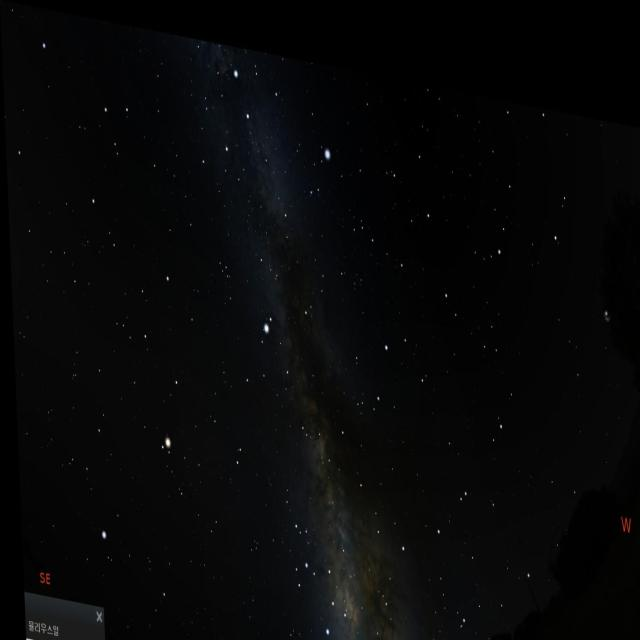aquila: (237, 308, 321, 439)
cygnus: (214, 39, 296, 236)
lyra: (305, 118, 336, 205)
sagittarius: (284, 520, 344, 640)
